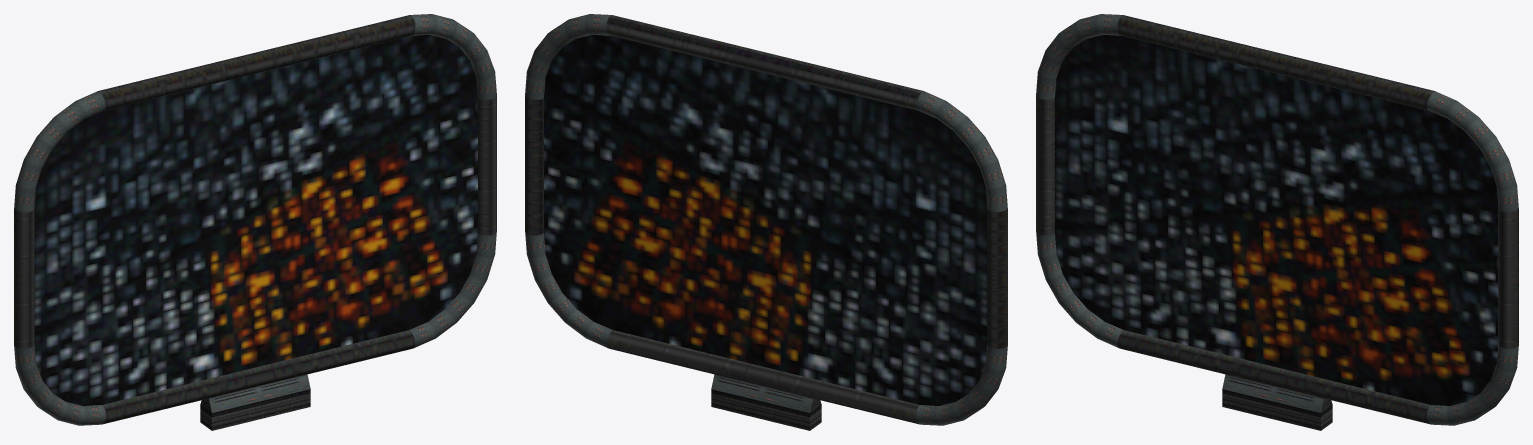
File: paineltransparente2.fbx
3 views of the same model, side by side, from view 1: azimuth 30°, elevation 25°; view 2: azimuth 150°, elevation 25°; view 3: azimuth 330°, elevation 25° (orthographic).
Parts seen in each view (by area): view 1: Cube.001, Cube; view 2: Cube.001, Cube; view 3: Cube.001, Cube.
Part boxes in pixels (bbox=[...]): Cube.001: bbox=[34, 35, 477, 405]; Cube: bbox=[14, 14, 496, 430]; Cube.001: bbox=[544, 35, 987, 405]; Cube: bbox=[525, 14, 1007, 430]; Cube.001: bbox=[1055, 35, 1498, 405]; Cube: bbox=[1036, 14, 1518, 430].
Bounding box in the file's own units: 2.63 × 1.89 × 0.1115.
